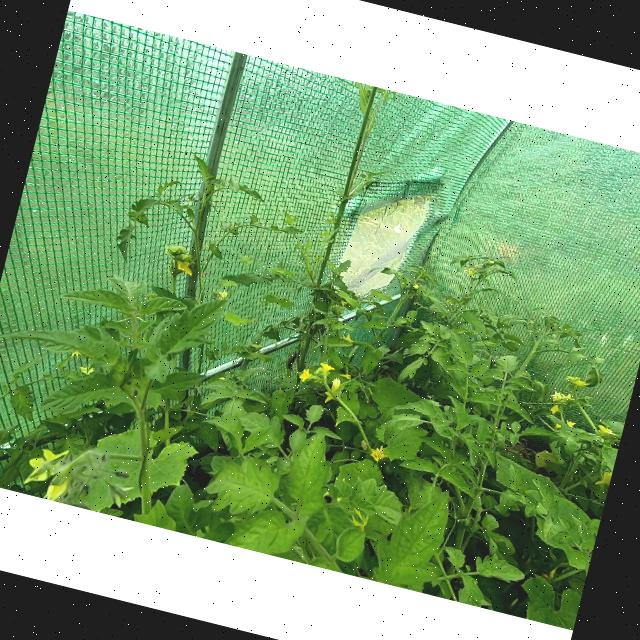Flowers: (22, 446, 78, 504), (172, 255, 197, 280), (346, 509, 371, 532), (323, 376, 342, 402), (564, 374, 588, 394), (549, 390, 573, 407), (594, 469, 611, 491), (368, 444, 388, 461), (78, 363, 95, 377), (297, 365, 311, 380), (596, 425, 613, 437), (212, 289, 228, 301), (317, 362, 335, 372), (70, 349, 82, 361), (464, 266, 476, 278), (548, 404, 560, 415), (564, 418, 576, 428), (554, 424, 560, 429)
